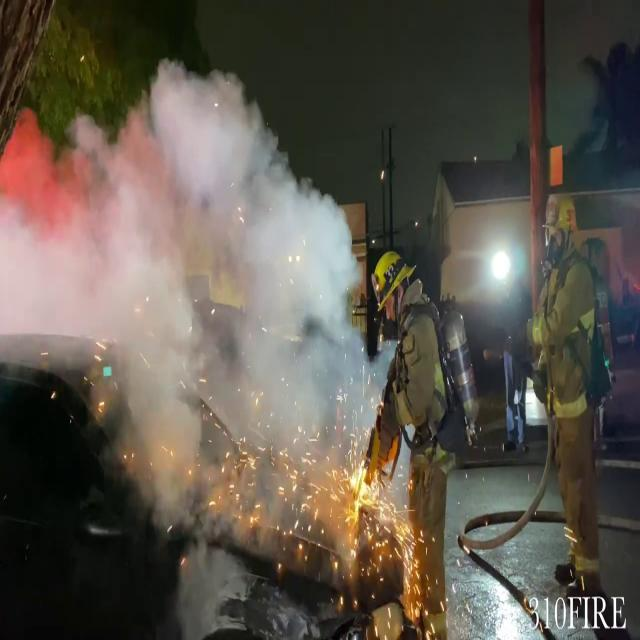Smoke: (0, 58, 370, 560)
